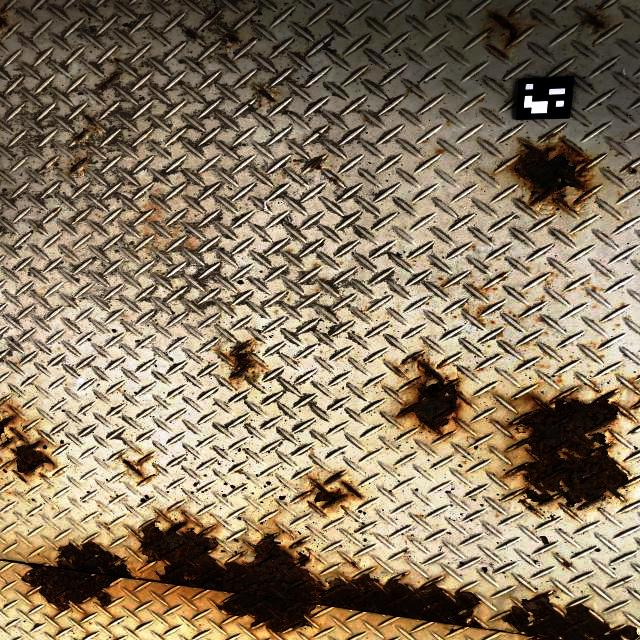Corrosion: (140, 523, 483, 632), (503, 390, 630, 510), (21, 540, 136, 612), (500, 592, 640, 640), (512, 136, 592, 212), (397, 353, 461, 435), (8, 438, 54, 483), (221, 341, 257, 381), (311, 479, 347, 510), (489, 11, 519, 47), (586, 13, 605, 34), (341, 481, 363, 499), (122, 460, 143, 477), (0, 415, 14, 440), (102, 74, 118, 90), (70, 157, 88, 171), (259, 89, 277, 103), (487, 45, 506, 58), (307, 158, 326, 170), (9, 426, 24, 441), (308, 501, 324, 515), (324, 473, 342, 485), (0, 435, 14, 448), (137, 455, 152, 465), (289, 541, 305, 549), (225, 34, 239, 43), (186, 29, 197, 40), (299, 491, 313, 499), (209, 12, 218, 21), (526, 505, 537, 512), (0, 17, 7, 28), (350, 560, 358, 569), (84, 115, 93, 123), (75, 133, 83, 142), (562, 560, 571, 568), (545, 133, 554, 139), (144, 474, 154, 479), (40, 166, 47, 171), (1, 6, 6, 13), (508, 10, 515, 15), (85, 142, 91, 147), (113, 58, 120, 62)
